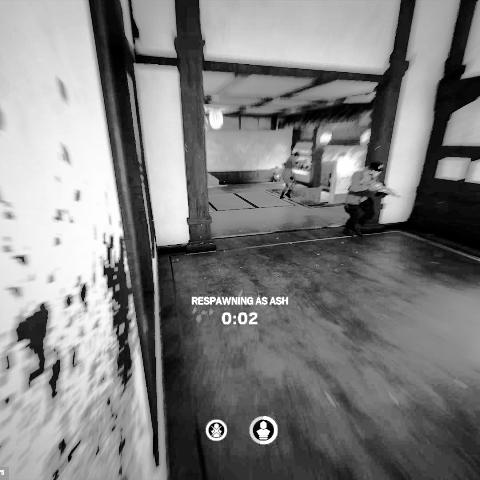Character: (341, 161, 391, 240), (278, 148, 306, 201)
Head: (369, 162, 384, 178), (292, 150, 302, 160)
